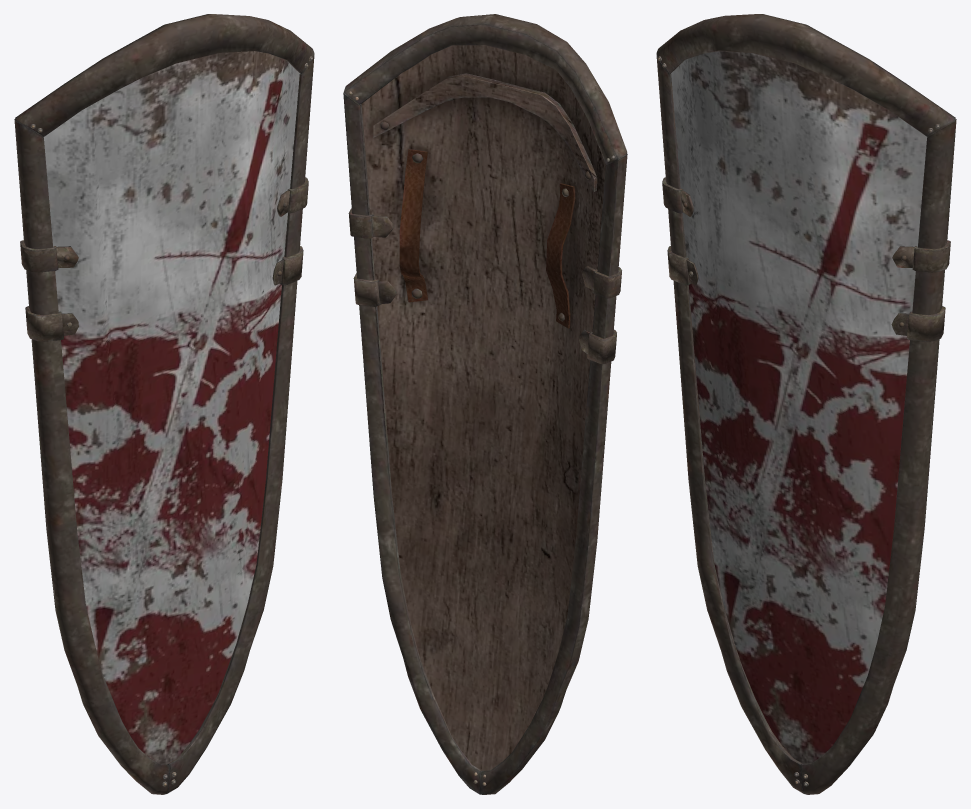
Rendered from kite_shield.glb.
3 views of the same model, side by side, from view 1: azimuth 30°, elevation 25°; view 2: azimuth 150°, elevation 25°; view 3: azimuth 330°, elevation 25° (orthographic). The views are drawn at different scales.
Parts seen in each view (by area): view 1: kite_shield_body, kite_shield_metal_trim; view 2: kite_shield_body, kite_shield_metal_trim; view 3: kite_shield_body, kite_shield_metal_trim.
Boxes of the visible parts, x1,y1,x2,y2 form: kite_shield_body: [43, 51, 300, 763]; kite_shield_metal_trim: [14, 14, 314, 794]; kite_shield_body: [361, 45, 606, 770]; kite_shield_metal_trim: [343, 14, 627, 794]; kite_shield_body: [671, 51, 927, 763]; kite_shield_metal_trim: [656, 14, 956, 794].
Bounding box in the file's own units: 0.5432 × 1.39 × 0.1347.
Materials: 2 (2 with a texture image).
